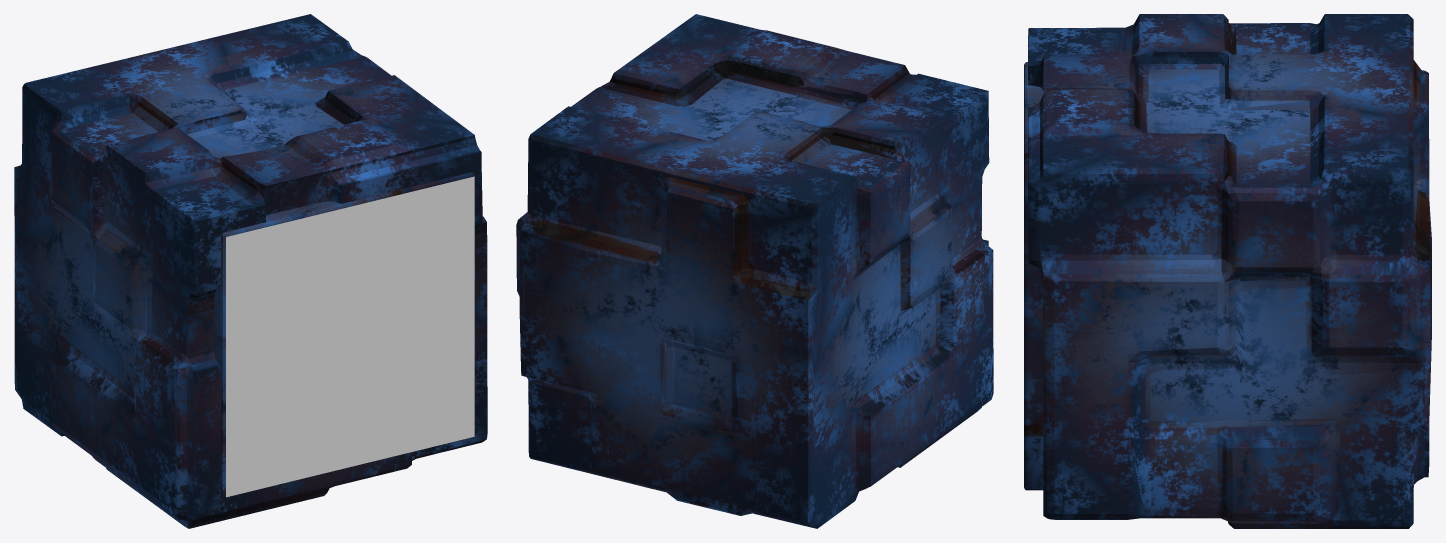
File: Box_Hellevator.fbx
3 views of the same model, side by side, from view 1: azimuth 30°, elevation 25°; view 2: azimuth 150°, elevation 25°; view 3: azimuth 270°, elevation 25° (orthographic). The views are drawn at different scales.
Parts seen in each view (by area): view 1: Box Hellevator FINAL; view 2: Box Hellevator FINAL; view 3: Box Hellevator FINAL.
Boxes of the visible parts, bbox=[...] form: Box Hellevator FINAL: bbox=[14, 14, 487, 528]; Box Hellevator FINAL: bbox=[516, 14, 993, 528]; Box Hellevator FINAL: bbox=[1024, 14, 1431, 528].
Bounding box in the file's own units: 2 × 2 × 2.
